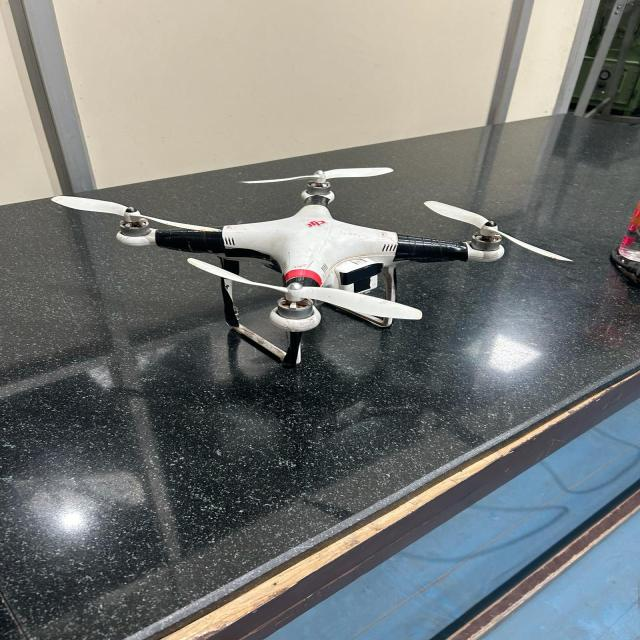drone: (31, 152, 579, 394)
